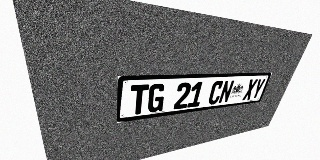1: (187, 81, 205, 108)
2: (173, 82, 192, 109)
C: (207, 80, 224, 105)
G: (147, 83, 166, 113)
N: (218, 80, 235, 104)
T: (129, 84, 149, 115)
X: (242, 79, 258, 100)
Y: (250, 78, 266, 99)
